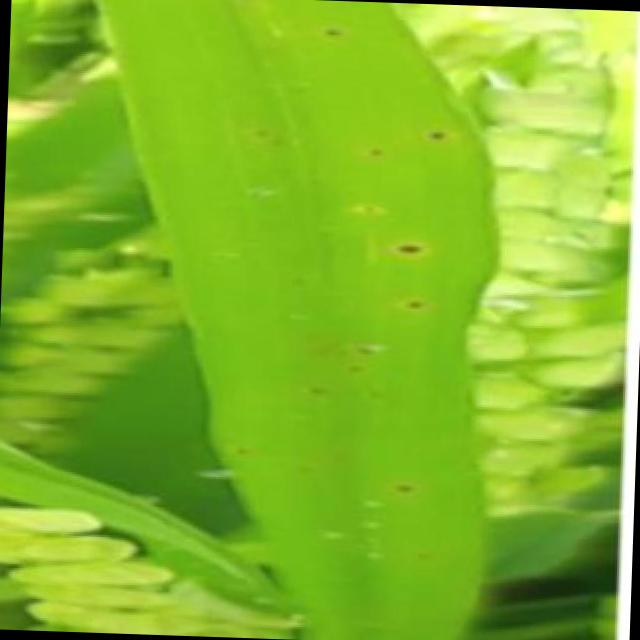Rice_Brownspot: (344, 188, 388, 220), (402, 540, 441, 574), (386, 230, 430, 260), (308, 14, 350, 41), (392, 286, 430, 313), (298, 372, 331, 400), (418, 118, 453, 144), (358, 136, 392, 162), (358, 380, 390, 406), (346, 334, 377, 360), (386, 472, 419, 496), (228, 432, 254, 461), (282, 267, 312, 292), (326, 444, 356, 468), (339, 350, 364, 377), (291, 458, 316, 480), (262, 130, 291, 148), (244, 121, 270, 141), (298, 170, 326, 188), (254, 36, 276, 58), (304, 159, 322, 175)
